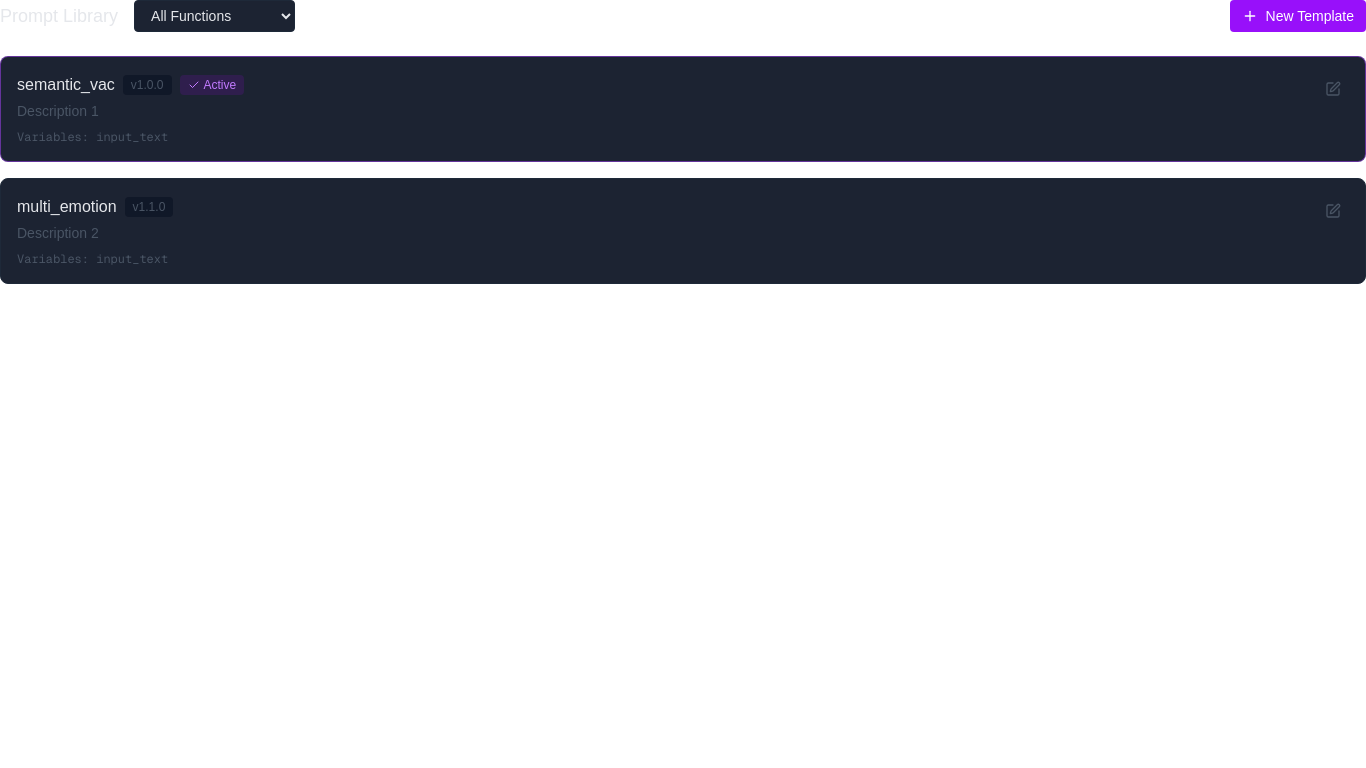
Scenario: PromptTemplatesTab › assigns selected function when creating new template with filter active
Expected: the button "New Template" is shown, [1230,0,1365,32]
Select "multi_emotion" in the dropdown named "Filter by Function" at (214, 16), box [134,0,295,32]
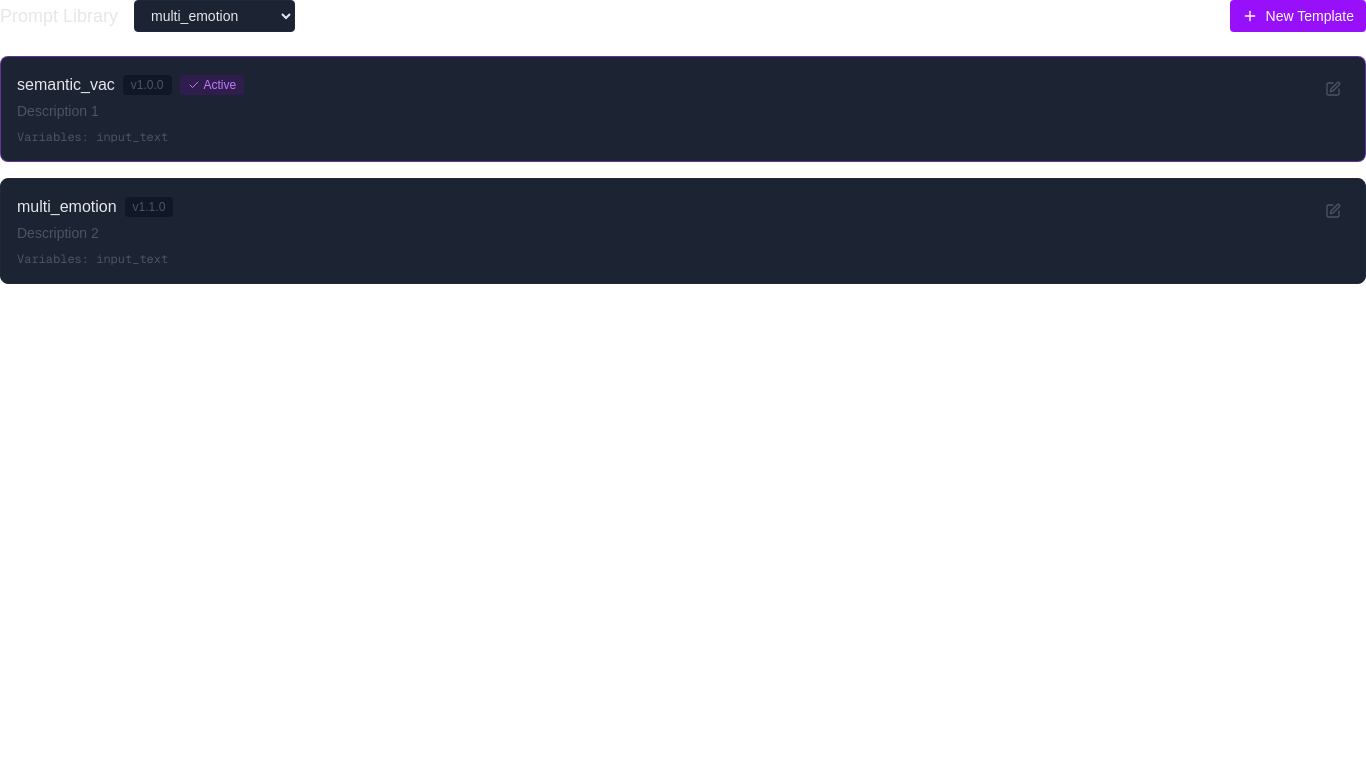
Click the button "New Template" at (1298, 16), box [1230,0,1365,32]
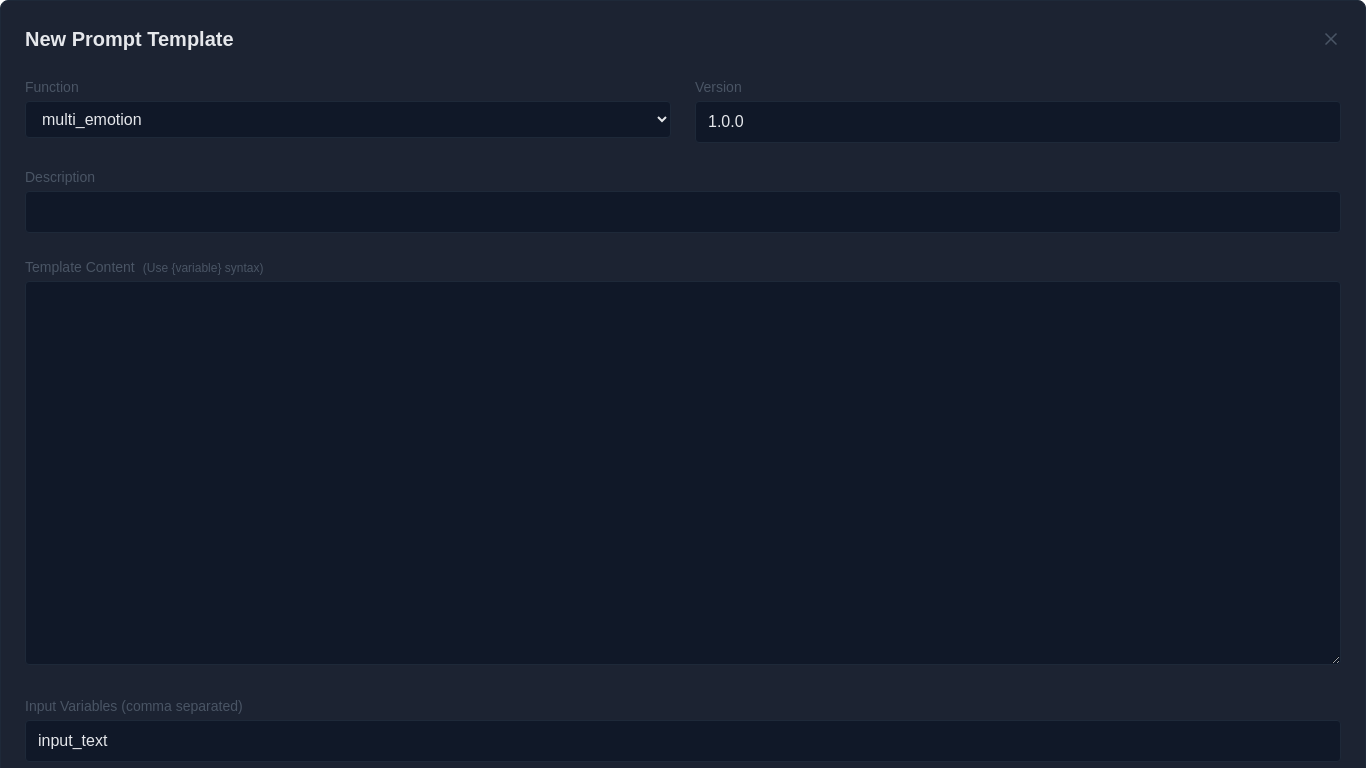
Result: the dropdown labelled "Function" shows "multi_emotion" at [25,101,671,138]
